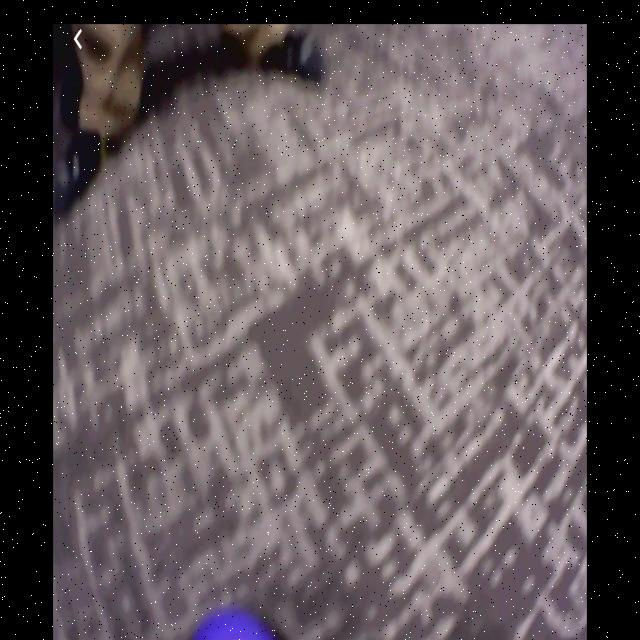ball: (187, 600, 276, 640)
